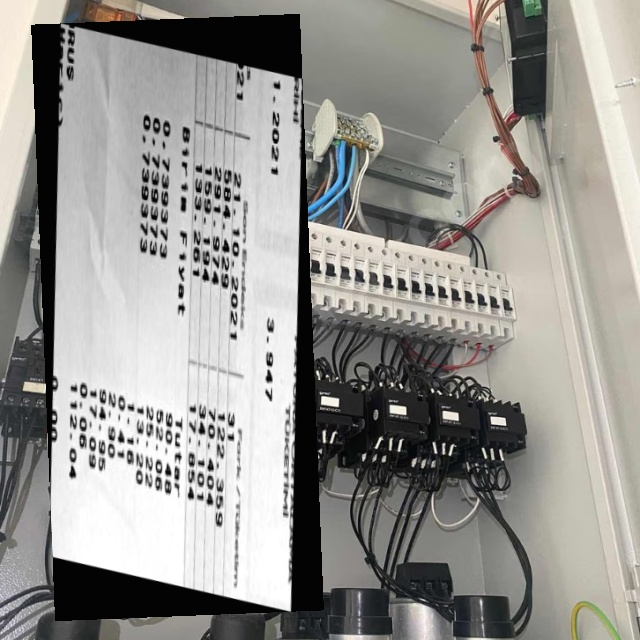electricity-bill: (30, 13, 323, 620)
